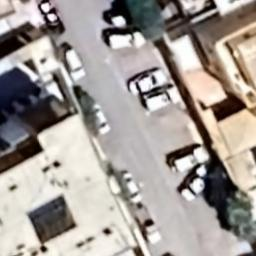SUV: (60, 44, 86, 80)
sedan: (126, 67, 168, 96), (178, 170, 210, 202), (84, 102, 110, 134), (124, 170, 139, 202)
truck: (134, 206, 162, 244)
van: (169, 142, 209, 174), (144, 85, 184, 112), (114, 28, 143, 48)
